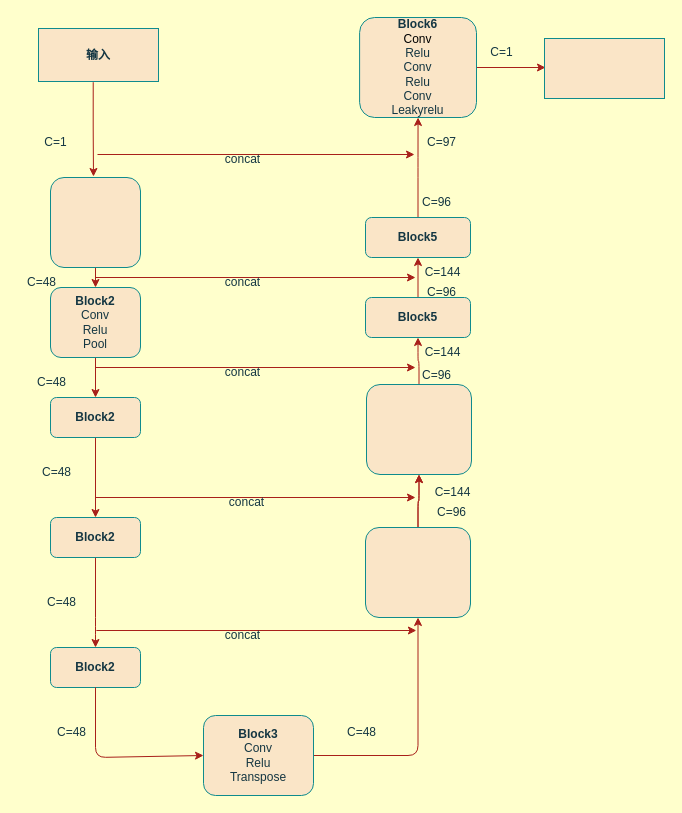
Some shapes in this 682 by 813 pixel diagram are drawn without their labels. The shapes that lost their labels are listed below. From the top down, each one's centre as x and y in pixels, then its label:
At (x=604, y=68): "输出".
At (x=95, y=222): "Block1 Conv Relu Conv relu Pool".
At (x=419, y=429): "Block5 Conv Relu Conv Relu Transpose".
At (x=417, y=572): "Block4 Conv Relu Conv Relu Transpose".
